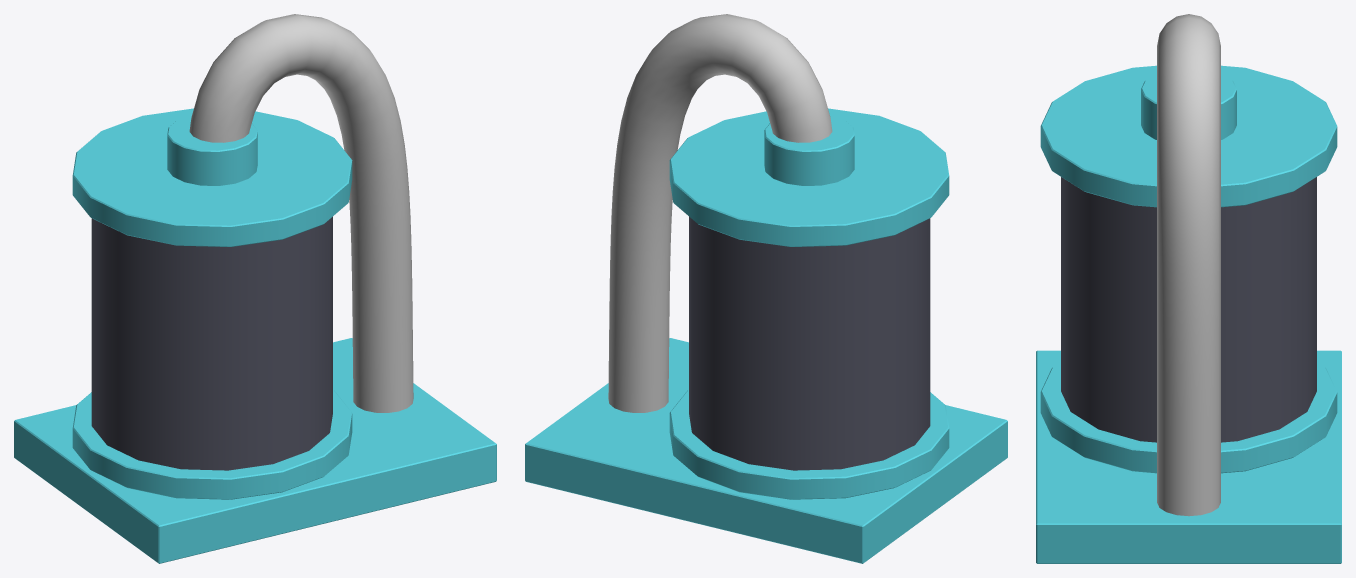
Rendered from Machine.fbx.
3 views of the same model, side by side, from view 1: azimuth 30°, elevation 25°; view 2: azimuth 150°, elevation 25°; view 3: azimuth 270°, elevation 25° (orthographic). The views are drawn at different scales.
Visible parts, largest first — view 1: Machine; view 2: Machine; view 3: Machine.
Part boxes in pixels (x1,y1,x2,y2): Machine: (14,14,496,563); Machine: (525,14,1007,563); Machine: (1036,14,1341,563).
Size of the model in its own units: 316 by 396 by 235.
